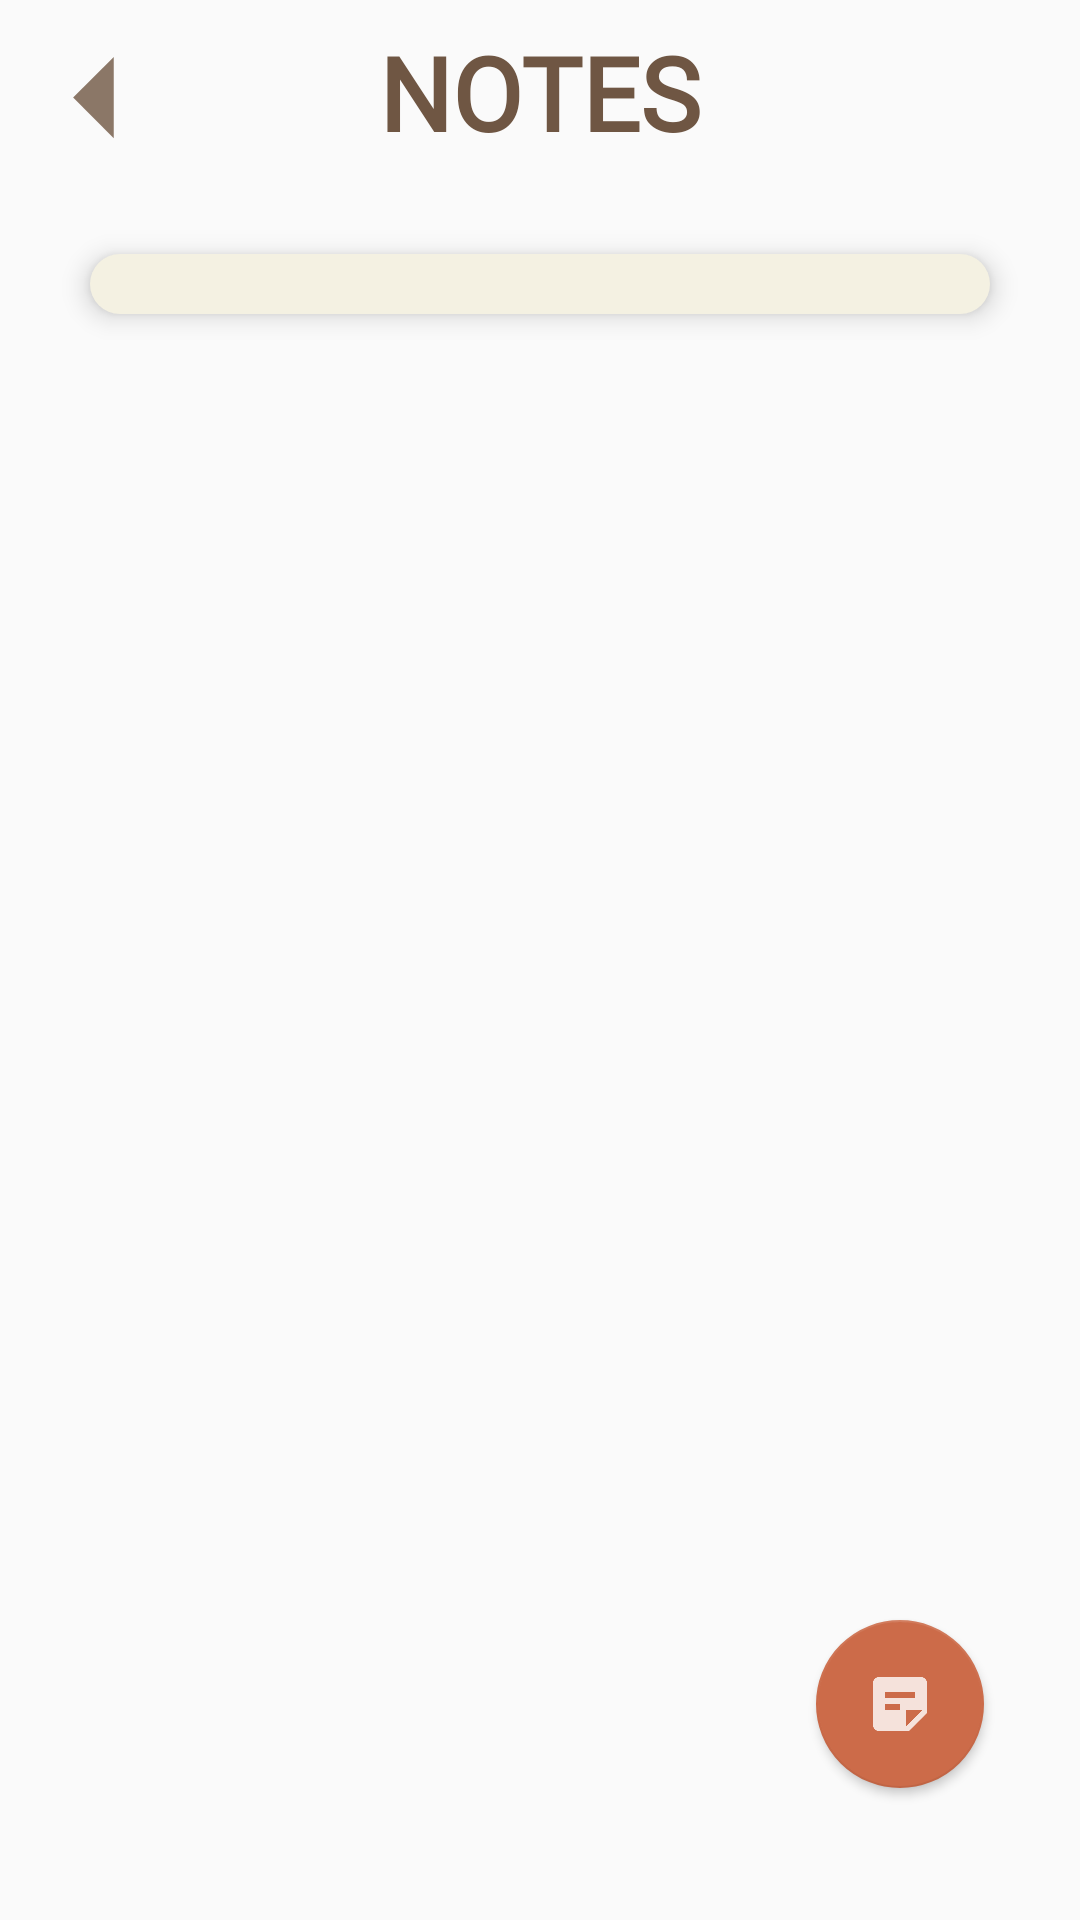

Named icons in this screenshot (1080px×1920px) and their bounding boxes, bbox=[x1, y1, x2, y2]:
back: bbox=[73, 57, 114, 138]
notes: bbox=[816, 1620, 984, 1788]
